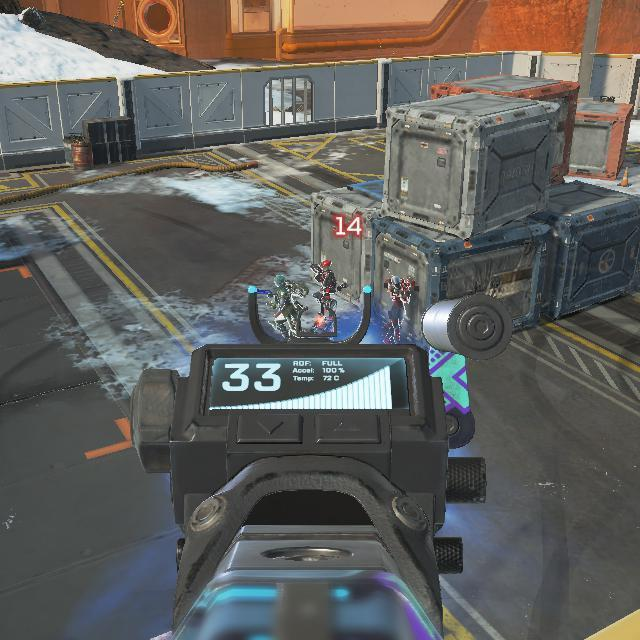avatar: (379, 272, 415, 345), (267, 272, 304, 342), (311, 256, 339, 337)
